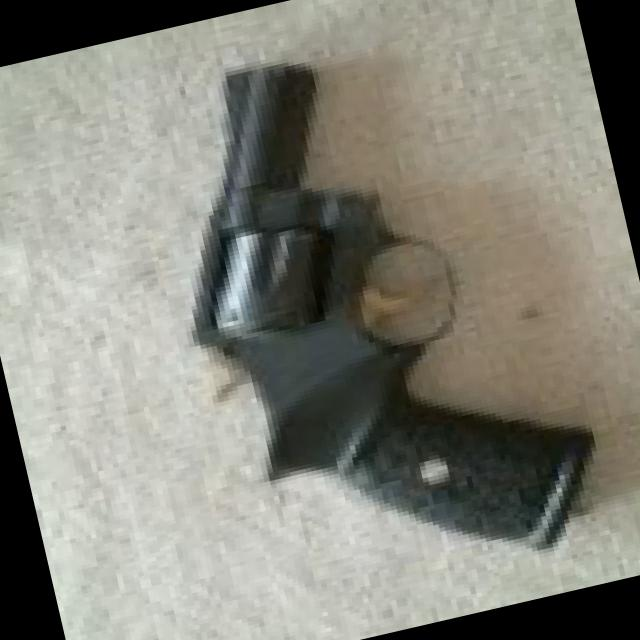handgun: (129, 23, 622, 624)
